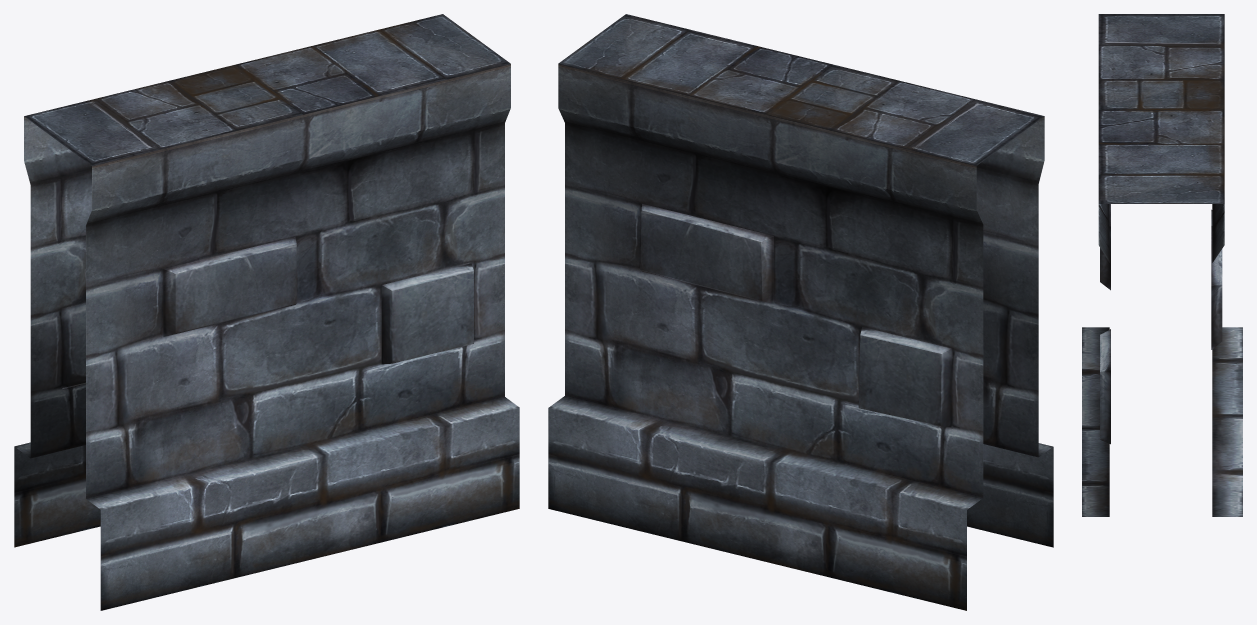
Rendered from B_shiqiang03.fbx.
3 renders of one model, left to right at view 1: azimuth 30°, elevation 25°; view 2: azimuth 150°, elevation 25°; view 3: azimuth 270°, elevation 25°, orthographic. The views are drawn at different scales.
Parts seen in each view (by area): view 1: B_shiqiang03; view 2: B_shiqiang03; view 3: B_shiqiang03.
Part boxes in pixels (box(x1,y1,x2,y2)): B_shiqiang03: box(14, 14, 519, 610); B_shiqiang03: box(548, 14, 1053, 610); B_shiqiang03: box(1082, 14, 1242, 516).
Size of the model in its own units: 443 by 443 by 159.
